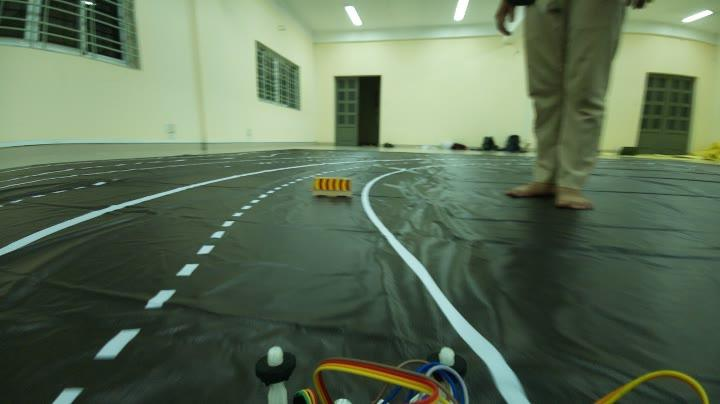roadblock: (311, 168, 363, 202)
